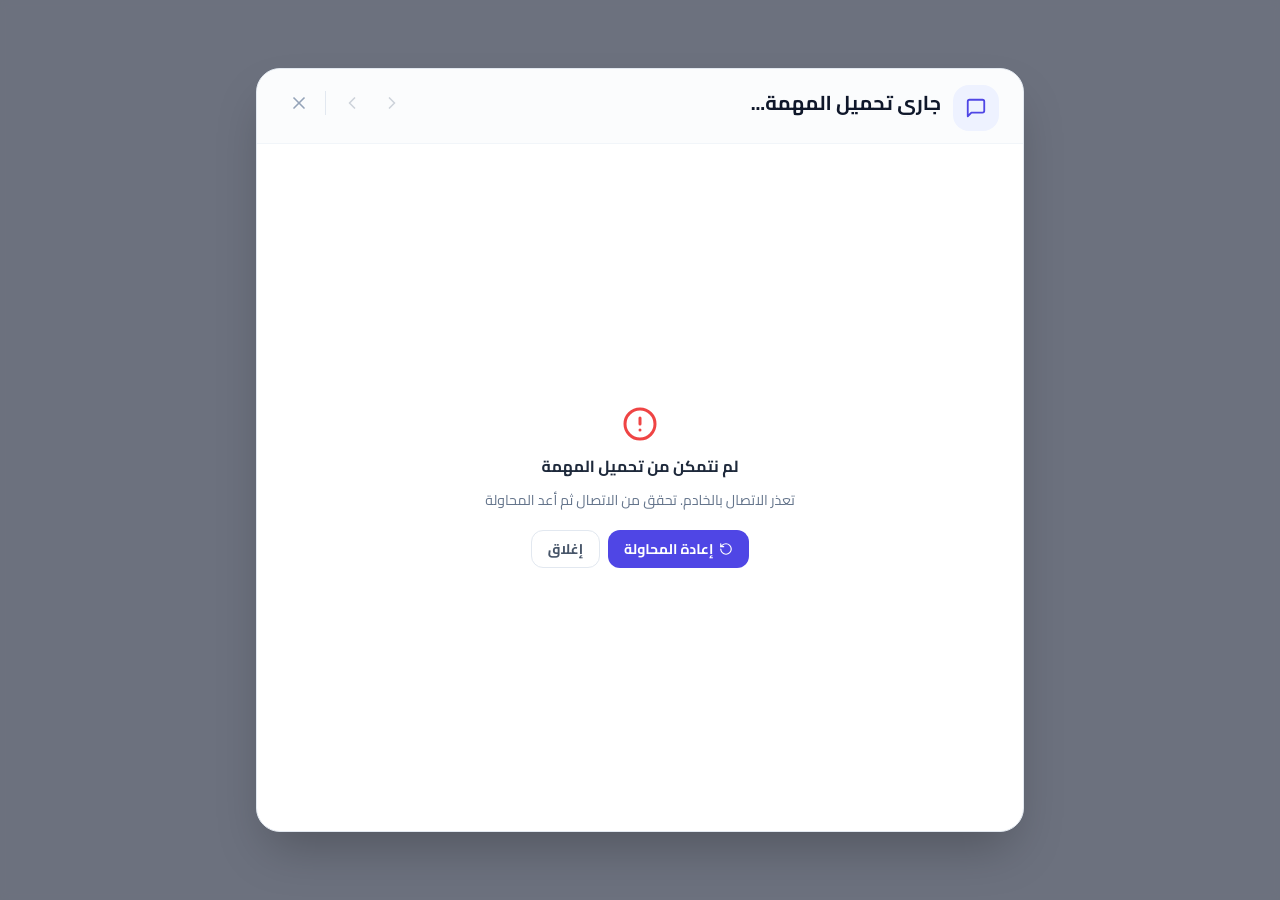
TaskDetailsModal › load failure shows a reason with retry, and can still be closed
Expected: the text "لم نتمكن من تحميل المهمة" is shown, [542,454,738,478]
Press Escape in the dialog, box [256,68,1024,832]
Click the button "إعادة المحاولة".
click(679, 550)  # box [608,530,749,568]
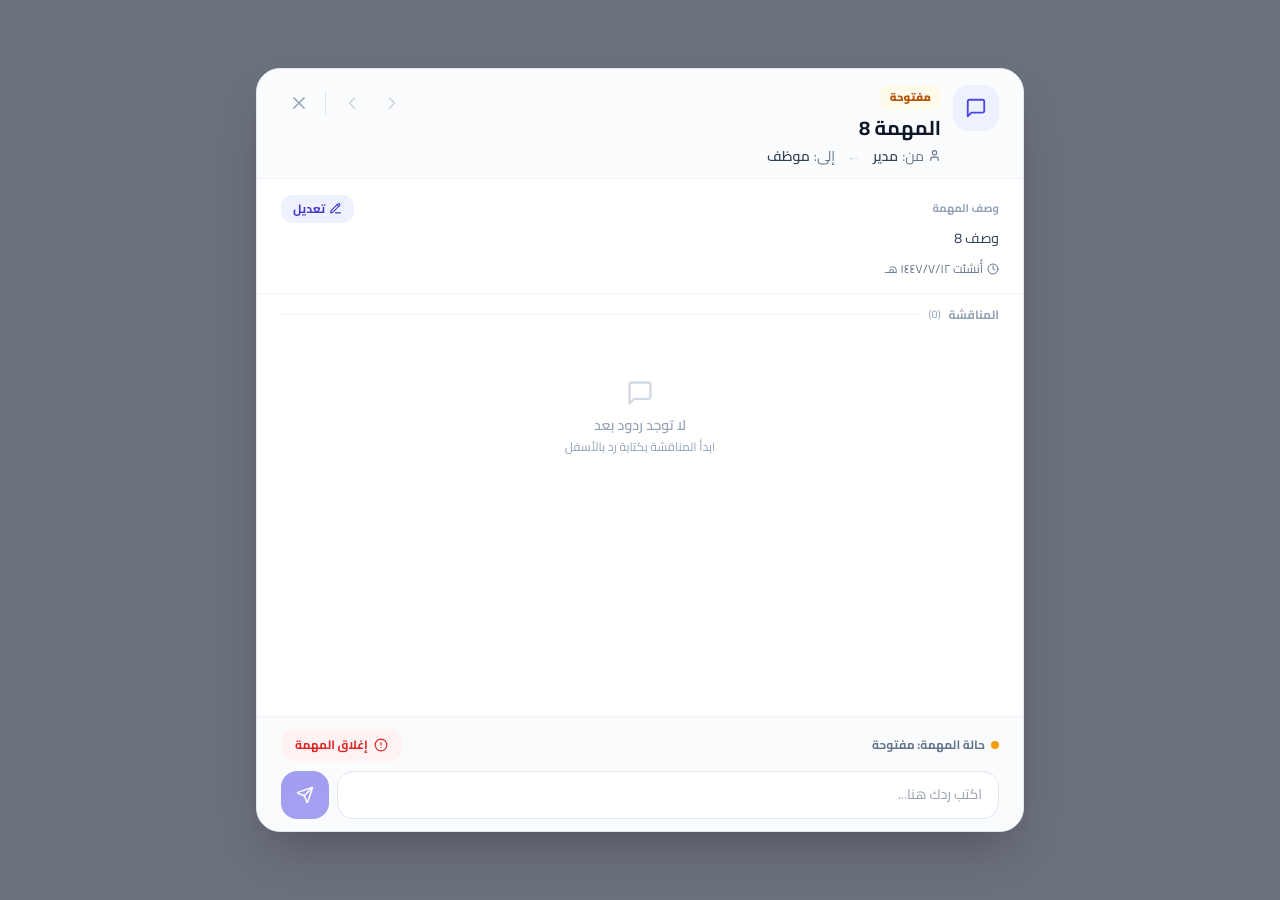
Expected: the text "وصف 8" is shown, [954,225,999,251]
